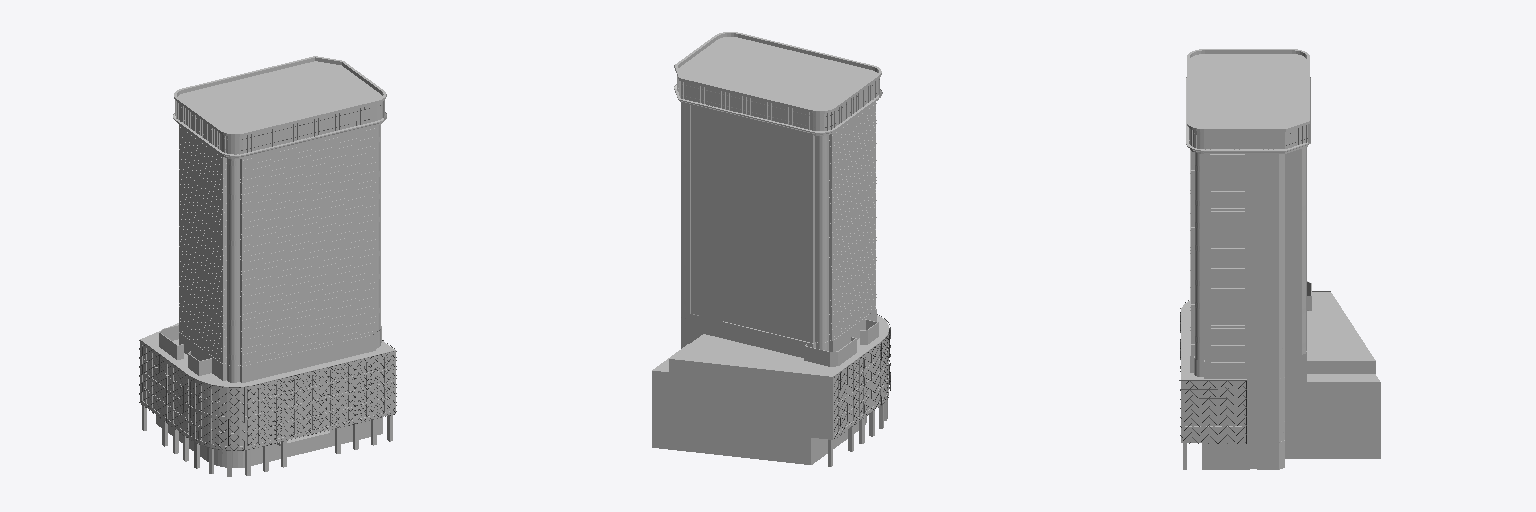
Rendered from skyscarp.obj.
3 renders of one model, left to right at view 1: azimuth 30°, elevation 25°; view 2: azimuth 150°, elevation 25°; view 3: azimuth 270°, elevation 25°, orthographic.
Visible parts, largest first — view 1: Cube.003, Cube.009, Cube.002, Cube.001, Cube.033, Cube.004; view 2: Cube.003, Cube.001, Cube.002, Cube.033, Cube.009, Cube.004; view 3: Cube.003, Cube.001, Cube.002, Cube.009, Cube.033, Cube.004.
Part boxes in pixels (x1,y1,x2,y2): Cube.003: (140,56,395,476); Cube.009: (143,346,391,445); Cube.002: (157,129,381,466); Cube.001: (179,326,381,382); Cube.033: (177,102,382,154); Cube.004: (139,340,396,450); Cube.003: (652,32,888,466); Cube.001: (652,309,876,464); Cube.002: (684,112,874,462); Cube.033: (681,79,878,130); Cube.009: (835,337,888,433); Cube.004: (834,314,890,438); Cube.003: (1181,49,1379,469); Cube.001: (1190,352,1380,469); Cube.002: (1195,165,1305,469); Cube.009: (1185,384,1241,438); Cube.033: (1189,125,1307,148); Cube.004: (1179,291,1330,443).
Bounding box in the file's own units: 59.28 × 106 × 56.44.